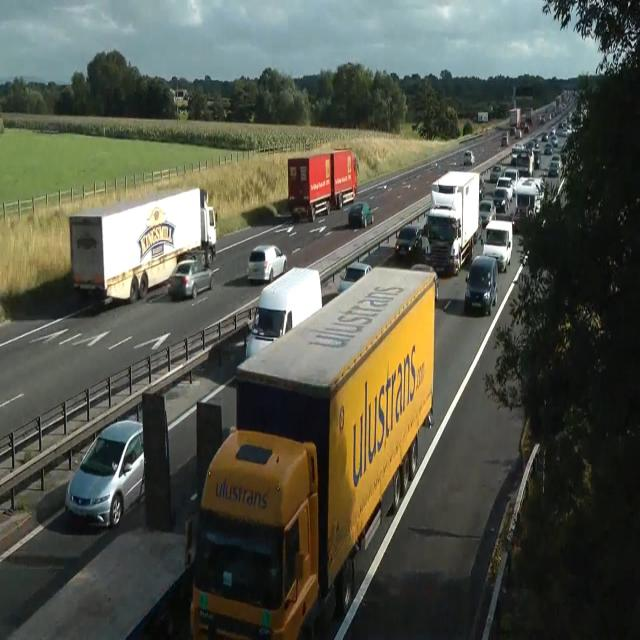bus: (65, 419, 145, 528), (168, 258, 218, 300), (246, 244, 287, 284), (337, 262, 373, 294), (411, 263, 438, 301), (394, 224, 422, 257), (348, 202, 374, 228), (478, 198, 496, 228), (491, 187, 509, 213), (496, 175, 514, 201), (503, 167, 519, 188), (511, 207, 521, 233), (490, 164, 502, 182), (464, 148, 474, 166), (479, 178, 485, 200), (501, 132, 508, 146), (544, 143, 552, 155)
jeep: (464, 253, 498, 316), (481, 219, 513, 272)
minibus: (184, 264, 438, 638), (69, 187, 217, 305), (245, 266, 323, 360), (425, 170, 481, 276), (287, 148, 358, 222), (513, 176, 545, 232), (509, 107, 532, 136), (509, 108, 521, 128), (525, 106, 533, 124), (478, 111, 488, 123)
